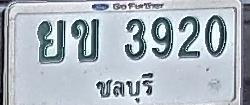0: (204, 15, 226, 57)
2: (178, 15, 200, 58)
3: (124, 18, 146, 60)
9: (152, 16, 173, 58)
A02: (71, 18, 99, 62)
A34: (36, 19, 66, 63)
CBI: (93, 68, 156, 105)
